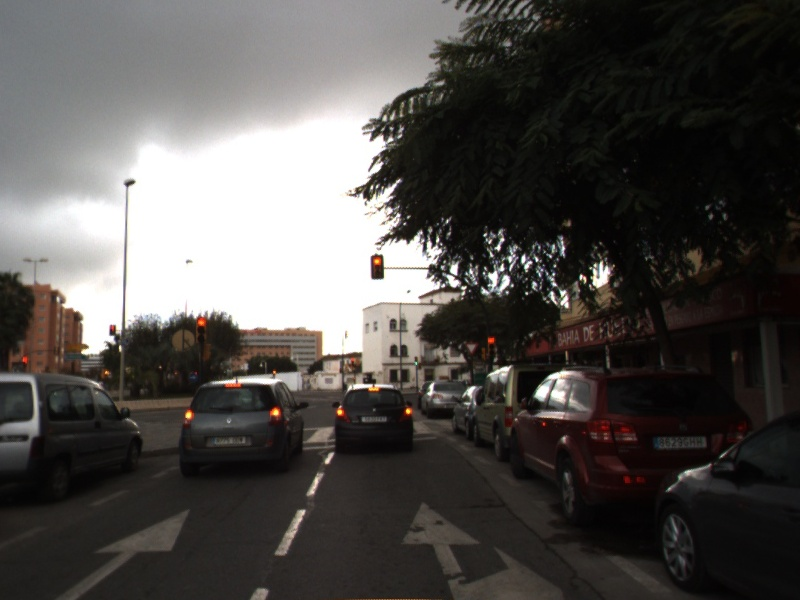STRAIGHT: (53, 507, 192, 600)
STRAIGHT_RIGHT: (399, 500, 565, 600)
